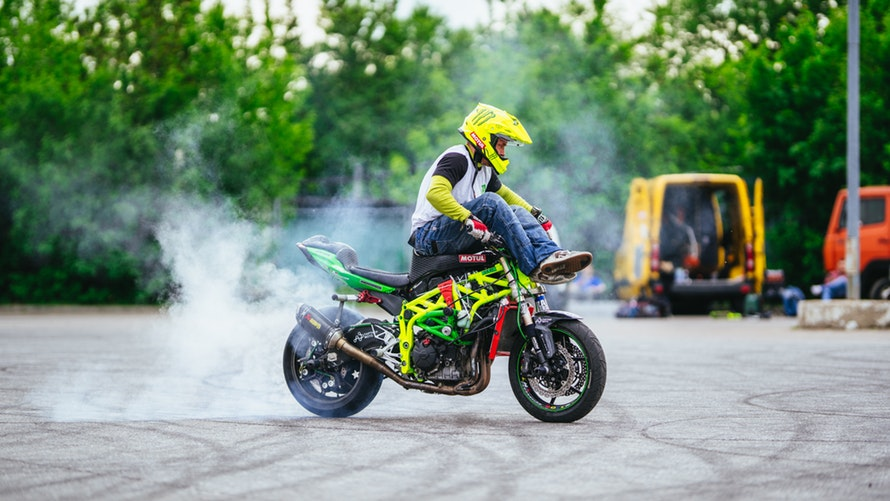helmet: (461, 103, 531, 178)
